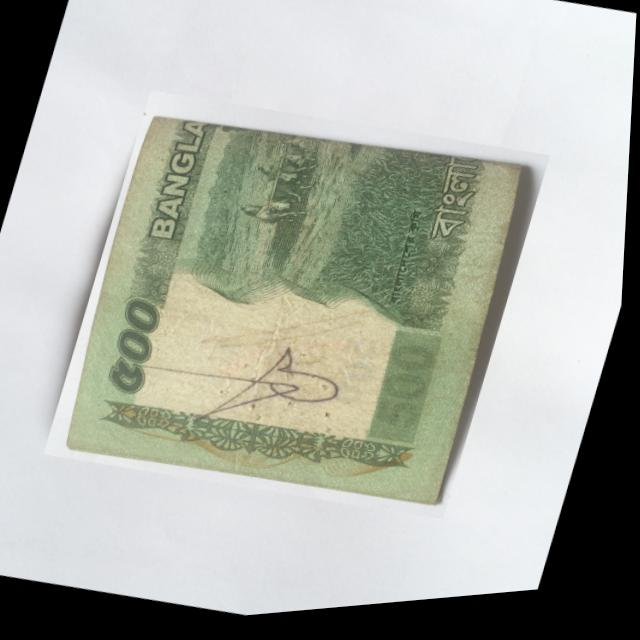Taka: (44, 65, 556, 556)
